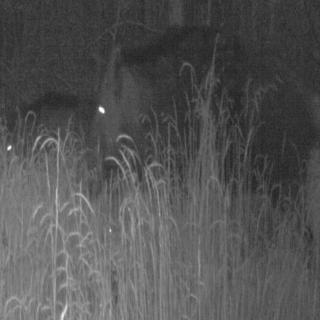Pig: (81, 26, 245, 222)
